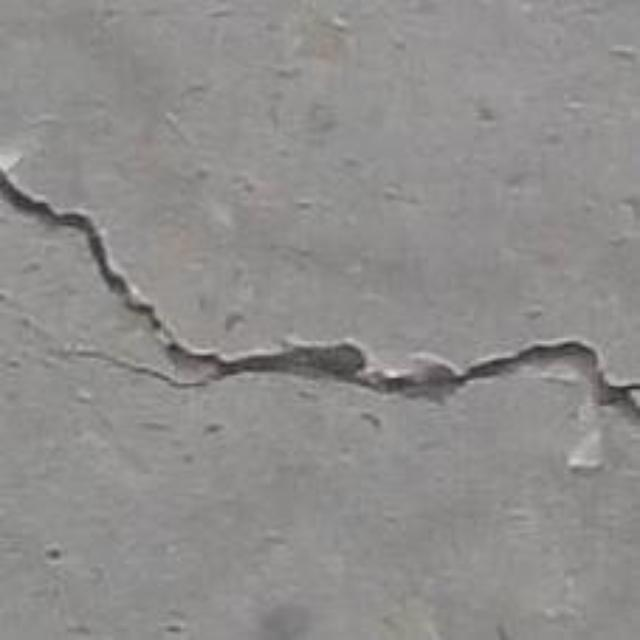crack: (0, 167, 639, 422)
